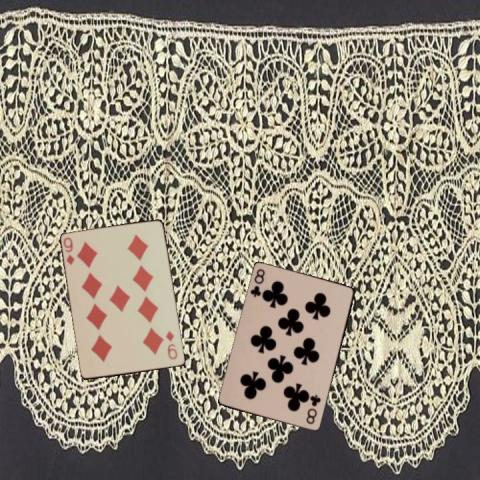8c: (247, 266, 267, 299), (303, 392, 322, 426)
9d: (164, 328, 180, 361), (61, 234, 76, 266)
